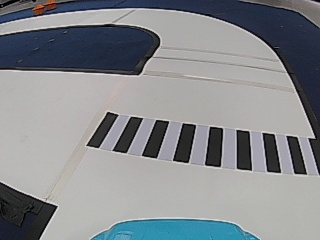CrossWalk: (85, 111, 318, 176)
